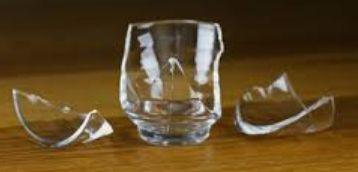glass: (119, 17, 227, 143), (230, 70, 339, 141), (10, 88, 115, 151)
